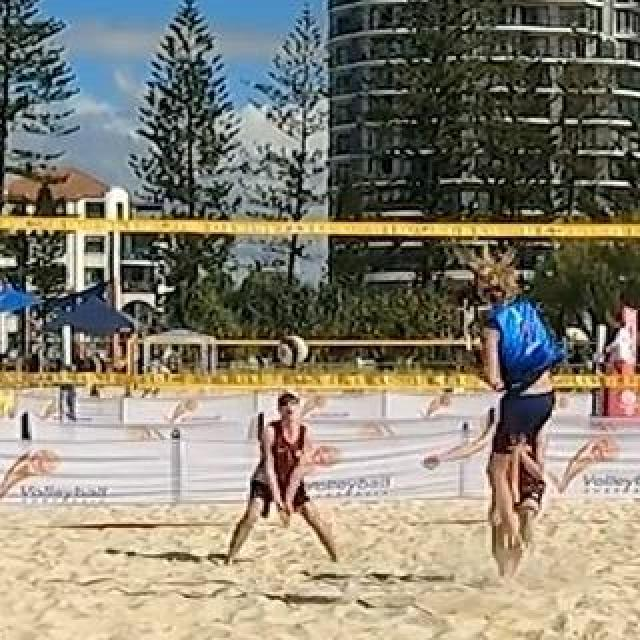volleyball: (276, 336, 308, 366)
